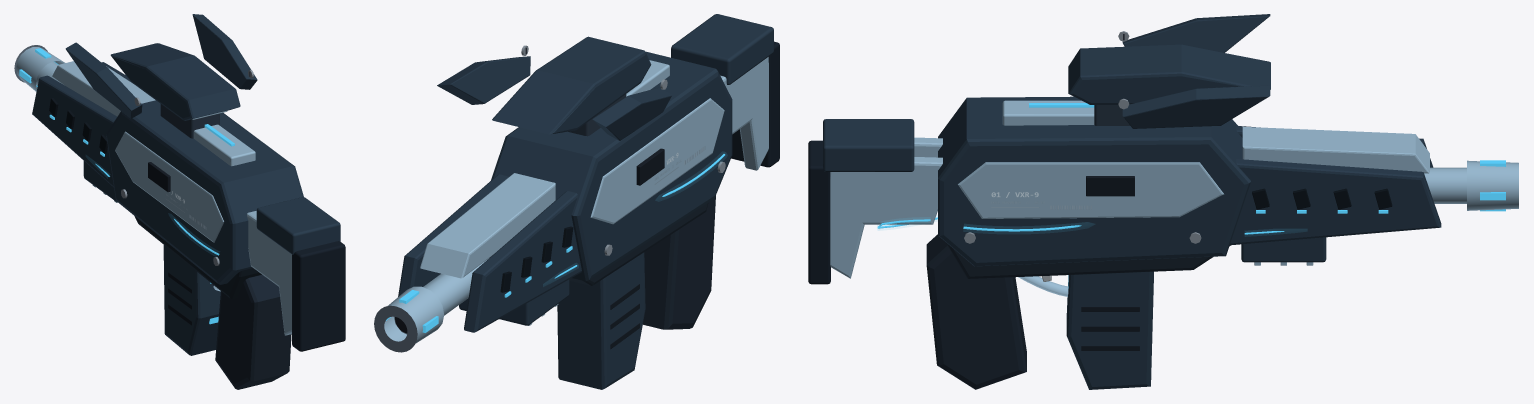
The model's file is vxr9_game_reference.glb.
3 renders of one model, left to right at view 1: azimuth 30°, elevation 25°; view 2: azimuth 150°, elevation 25°; view 3: azimuth 270°, elevation 25°, orthographic. The views are drawn at different scales.
Visible parts, largest first — view 1: forged-gun-chassis, shoulder-stock, mythic-iron-sight, pistol-grip, ventilated-barrel-shroud, reload-energy-cell, bolt-carrier, machined-muzzle, optic-mount-riser, foregrip; view 2: forged-gun-chassis, ventilated-barrel-shroud, mythic-iron-sight, shoulder-stock, reload-energy-cell, pistol-grip, machined-muzzle, foregrip, barrel-assembly, bolt-carrier, optic-mount-riser; view 3: forged-gun-chassis, ventilated-barrel-shroud, mythic-iron-sight, shoulder-stock, pistol-grip, reload-energy-cell, machined-muzzle, bolt-carrier, foregrip, barrel-assembly, optic-mount-riser.
Boxes of the visible parts, x1,y1,x2,y2 form: forged-gun-chassis: (106,100,303,299); shoulder-stock: (247,197,345,351); mythic-iron-sight: (65,14,257,120); pistol-grip: (215,274,291,389); ventilated-barrel-shroud: (32,61,155,187); reload-energy-cell: (163,245,220,355); bolt-carrier: (193,124,255,166); machined-muzzle: (14,45,64,91); optic-mount-riser: (160,104,227,138); foregrip: (83,161,117,202); forged-gun-chassis: (491,51,732,285); ventilated-barrel-shroud: (398,173,581,332); mythic-iron-sight: (437,36,672,140); shoulder-stock: (671,14,779,170); reload-energy-cell: (557,252,645,389); pistol-grip: (643,195,715,329); machined-muzzle: (374,286,443,352); foregrip: (459,279,569,325); barrel-assembly: (394,258,488,334); bolt-carrier: (626,60,669,96); optic-mount-riser: (568,94,626,136); forged-gun-chassis: (938,96,1250,296); ventilated-barrel-shroud: (1230,126,1441,245); mythic-iron-sight: (1068,14,1270,128); shoulder-stock: (808,119,942,284); pistol-grip: (926,234,1026,389); reload-energy-cell: (1066,271,1153,389); machined-muzzle: (1467,160,1518,211); bolt-carrier: (1002,100,1094,125); foregrip: (1241,237,1326,265); barrel-assembly: (1424,167,1466,203); optic-mount-riser: (1094,105,1129,125).
Size of the model in its own units: 0.2982 by 0.5552 by 1.09.
Materials: 87 (2 with a texture image).
